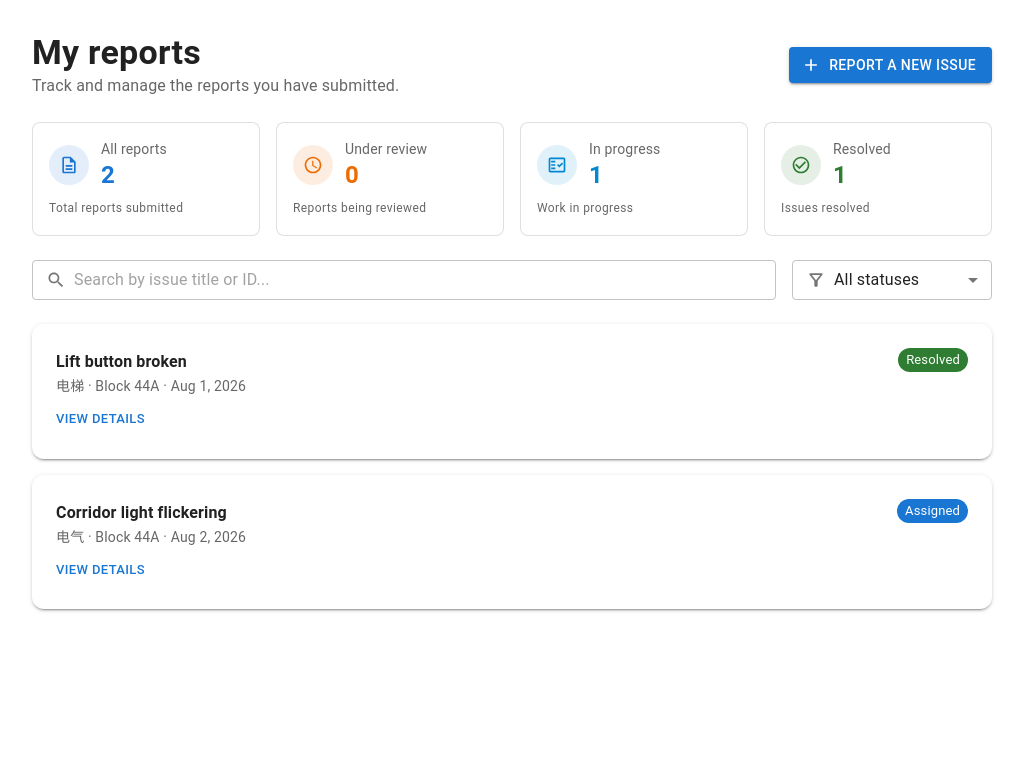
Scenario: MyReportsPage — translation wiring › collapsing and expanding a different card starts translation fresh
Click the button "View details" below "电梯".
click(100, 419)  # box [56,404,145,435]
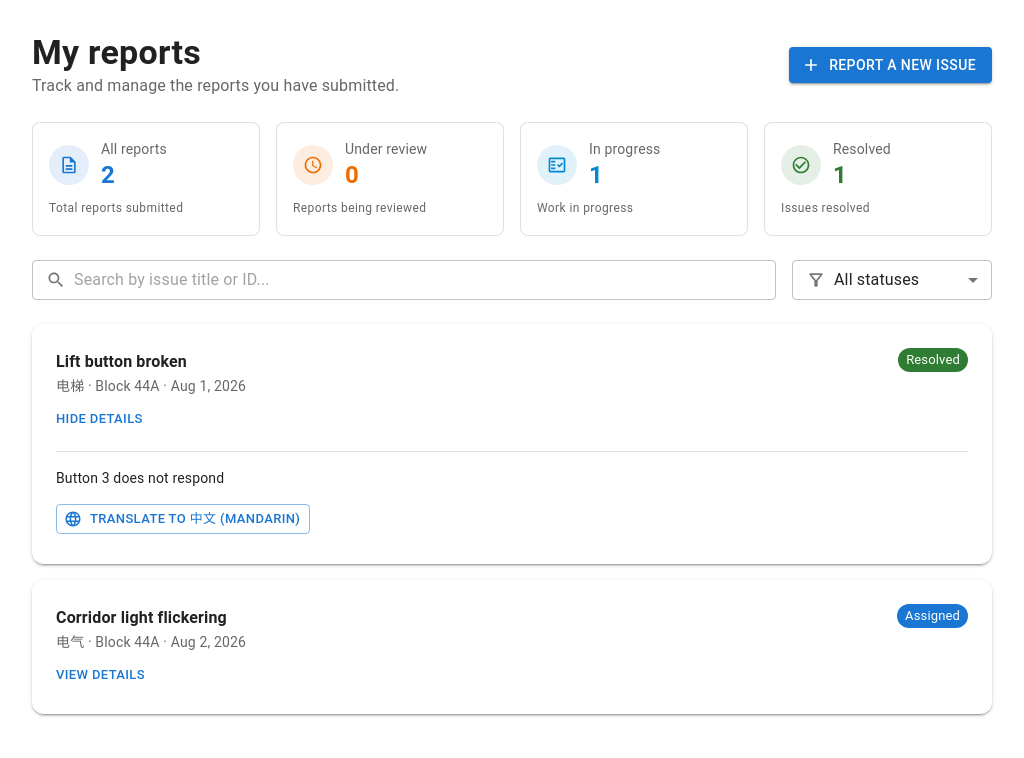
Click the button "Translate to 中文 (Mandarin)".
click(183, 519)  # box [56,504,310,534]
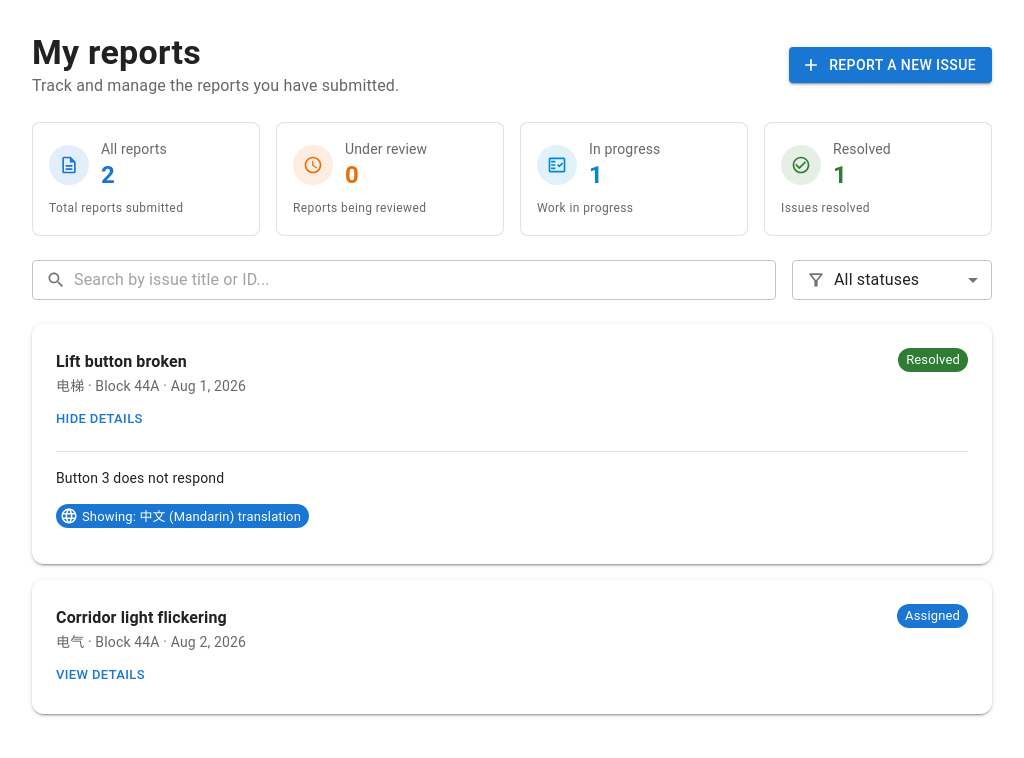
Click the button "Hide details".
click(99, 419)  # box [56,404,143,435]
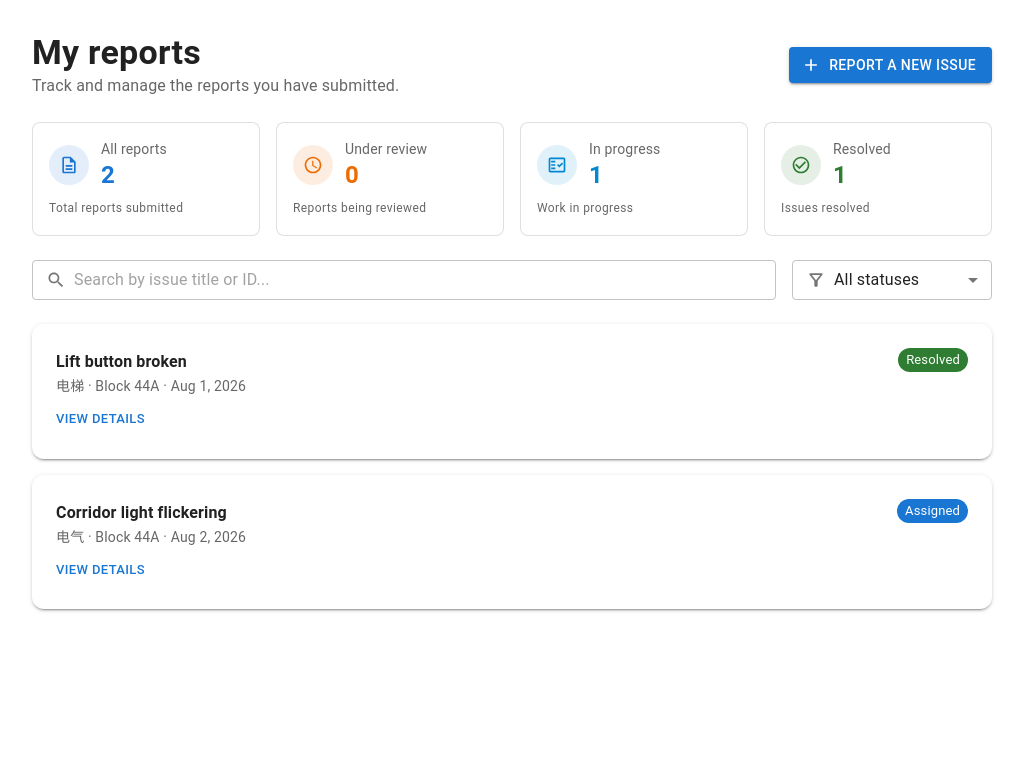
Click the button "View details" below "电气".
click(100, 570)  # box [56,555,145,586]
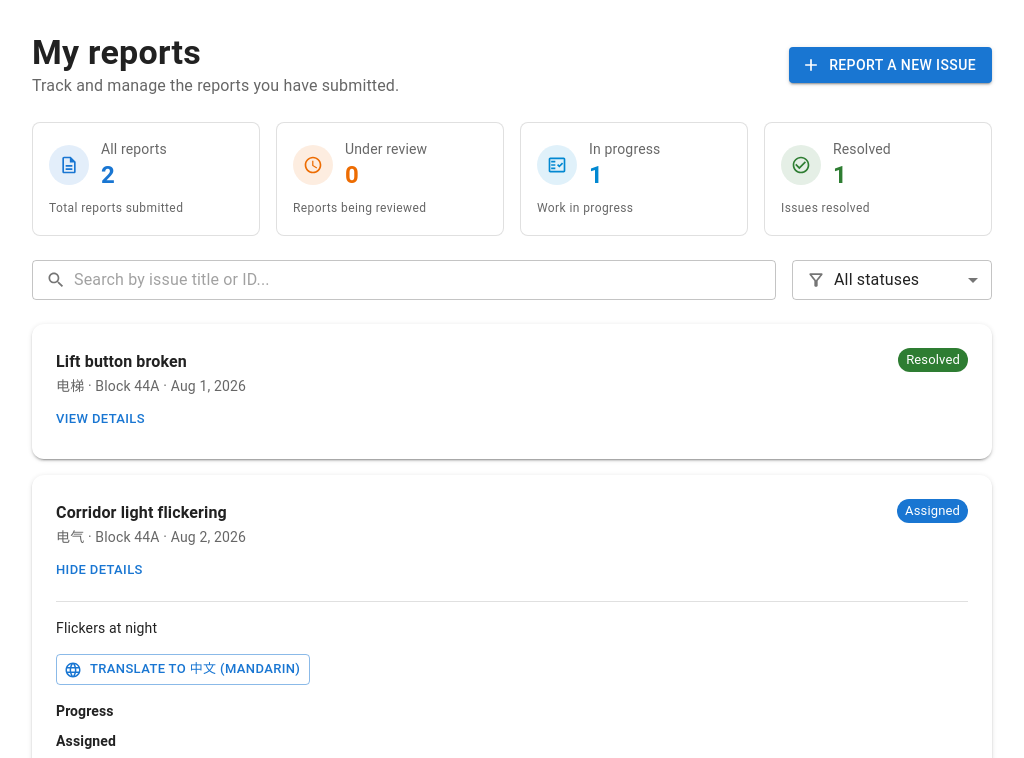
Expected: the text "已更换按钮模块。" is not shown
Result: the button "Translate to 中文 (Mandarin)" is shown at [56,654,310,685]
